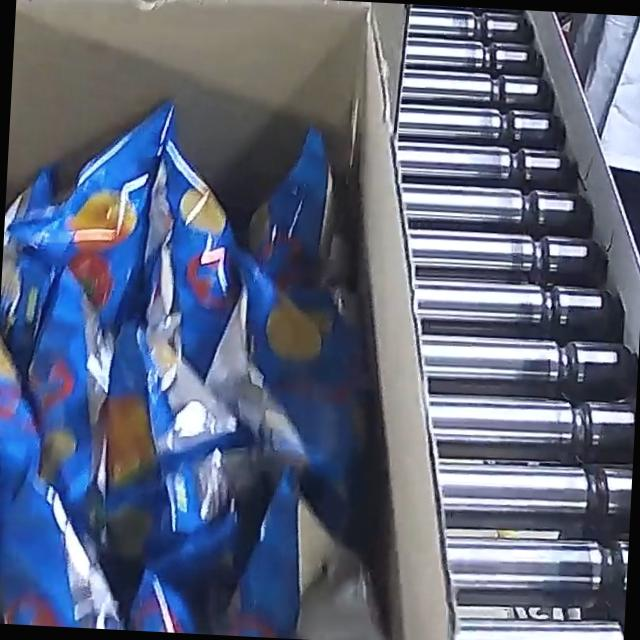paprika: (0, 89, 411, 640)
